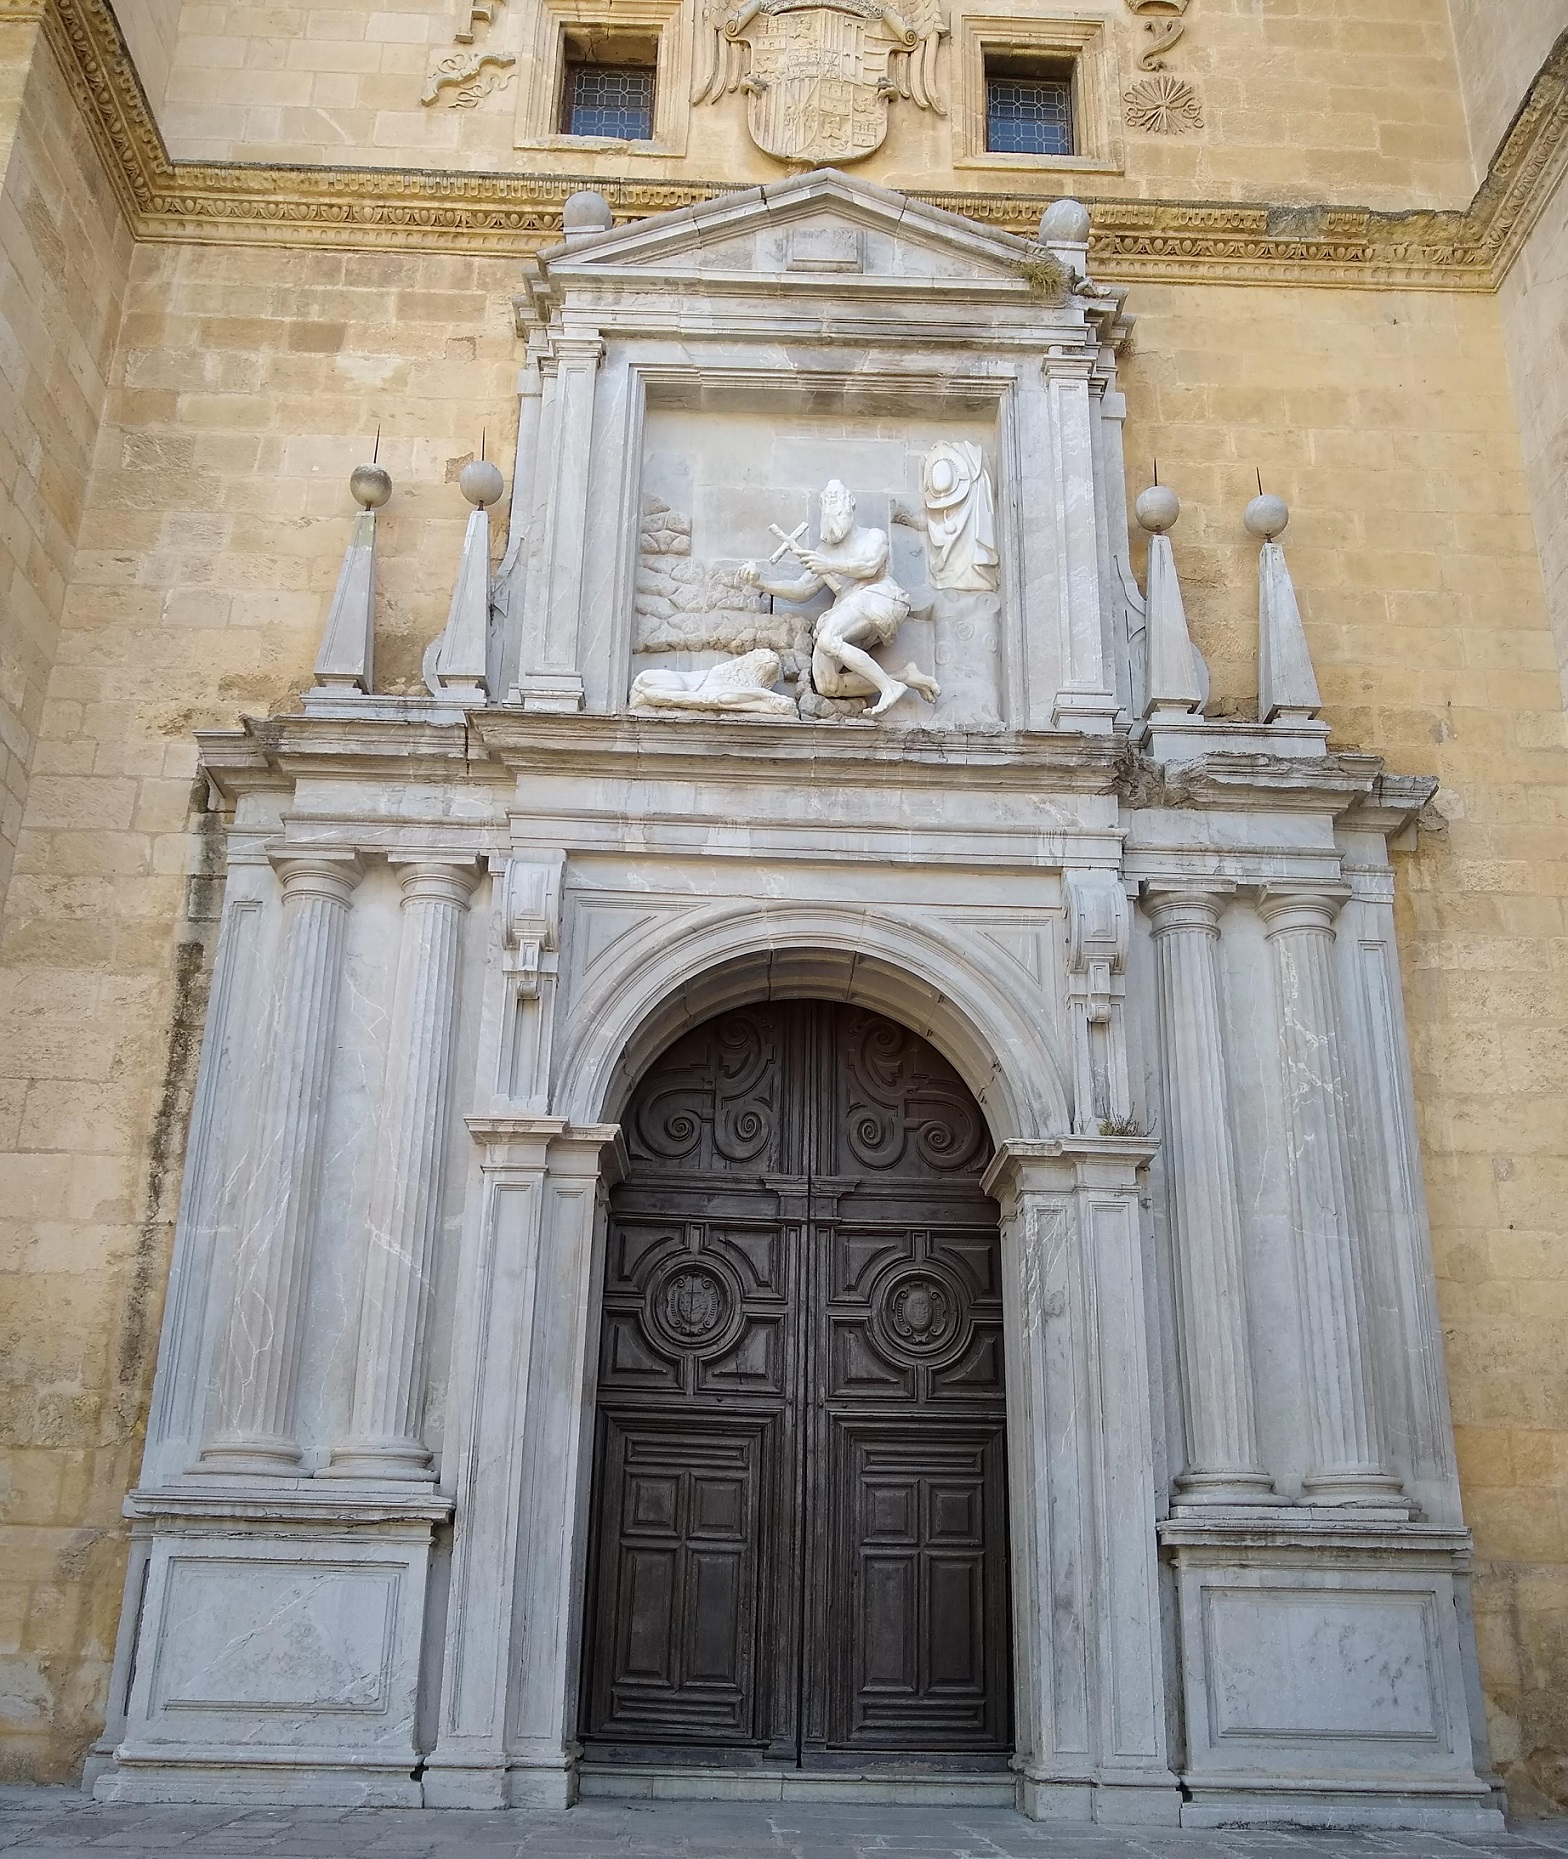arco-medio-punto: (574, 913, 1038, 1234)
fronton: (534, 159, 1090, 313)
